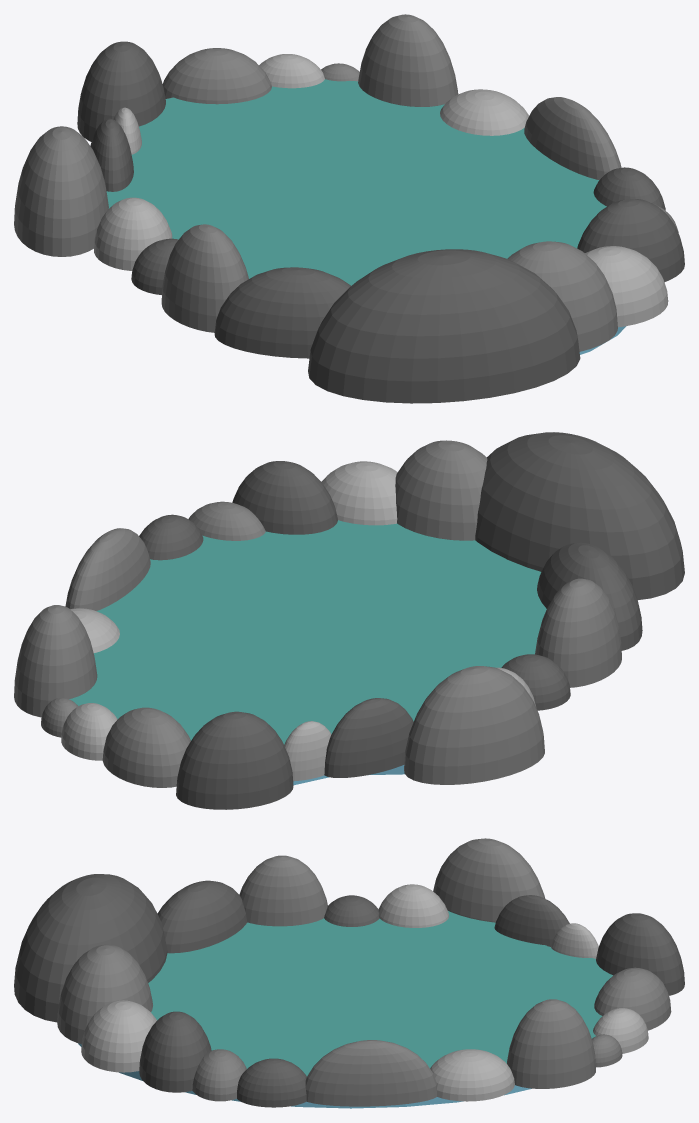
File: Pond.fbx
3 views of the same model, one above another, from view 1: azimuth 30°, elevation 25°; view 2: azimuth 150°, elevation 25°; view 3: azimuth 270°, elevation 25° (orthographic). The views are drawn at different scales.
Visible parts, largest first — view 1: Cylinder.001, Sphere, Sphere.008, Sphere.001, Sphere.016, Sphere.004, Sphere.002, Sphere.010, Sphere.003, Sphere.012, Sphere.018, Sphere.011 (+7 smaller); view 2: Cylinder.001, Sphere, Sphere.008, Sphere.010, Sphere.002, Sphere.004, Sphere.016, Sphere.012, Sphere.007, Sphere.018, Sphere.001, Sphere.003 (+8 smaller); view 3: Cylinder.001, Sphere, Sphere.003, Sphere.016, Sphere.008, Sphere.002, Sphere.004, Sphere.001, Sphere.010, Sphere.012, Sphere.011, Sphere.017 (+10 smaller).
Part boxes in pixels (x1=…): Cylinder.001: x1=106, y1=79, x2=606, y2=285; Sphere: x1=308, y1=249, x2=580, y2=403; Sphere.008: x1=14, y1=126, x2=108, y2=256; Sphere.001: x1=214, y1=267, x2=350, y2=358; Sphere.016: x1=358, y1=14, x2=458, y2=106; Sphere.004: x1=161, y1=224, x2=248, y2=332; Sphere.002: x1=507, y1=241, x2=617, y2=351; Sphere.010: x1=77, y1=41, x2=165, y2=141; Sphere.003: x1=524, y1=97, x2=621, y2=180; Sphere.012: x1=577, y1=199, x2=684, y2=282; Sphere.018: x1=162, y1=48, x2=271, y2=104; Sphere.011: x1=585, y1=246, x2=668, y2=327; Cylinder.001: x1=69, y1=520, x2=546, y2=744; Sphere: x1=475, y1=432, x2=684, y2=599; Sphere.008: x1=404, y1=666, x2=544, y2=784; Sphere.010: x1=176, y1=711, x2=293, y2=809; Sphere.002: x1=395, y1=440, x2=487, y2=540; Sphere.004: x1=535, y1=578, x2=621, y2=687; Sphere.016: x1=14, y1=605, x2=97, y2=717; Sphere.012: x1=232, y1=461, x2=337, y2=534; Sphere.007: x1=324, y1=698, x2=413, y2=777; Sphere.018: x1=102, y1=707, x2=190, y2=787; Sphere.001: x1=537, y1=542, x2=642, y2=650; Sphere.003: x1=65, y1=528, x2=150, y2=611; Cylinder.001: x1=148, y1=911, x2=612, y2=1076; Sphere: x1=14, y1=874, x2=167, y2=1022; Sphere.003: x1=305, y1=1040, x2=436, y2=1106; Sphere.016: x1=507, y1=999, x2=595, y2=1088; Sphere.008: x1=433, y1=838, x2=545, y2=922; Sphere.002: x1=57, y1=944, x2=152, y2=1043; Sphere.004: x1=239, y1=855, x2=327, y2=926; Sphere.001: x1=157, y1=880, x2=247, y2=953; Sphere.010: x1=596, y1=913, x2=684, y2=995; Sphere.012: x1=139, y1=1011, x2=211, y2=1092; Sphere.011: x1=81, y1=1000, x2=156, y2=1072; Sphere.017: x1=430, y1=1049, x2=514, y2=1101.
Bounding box in the file's own units: 626 × 144 × 848.
